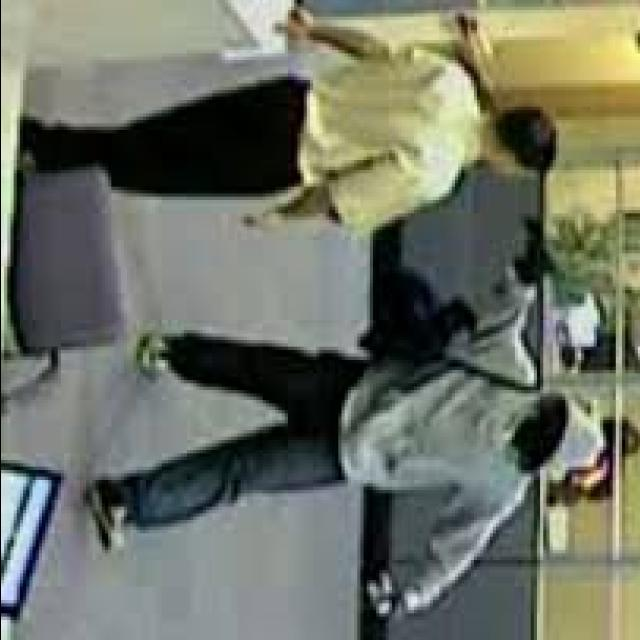weapons: (500, 211, 576, 293)
